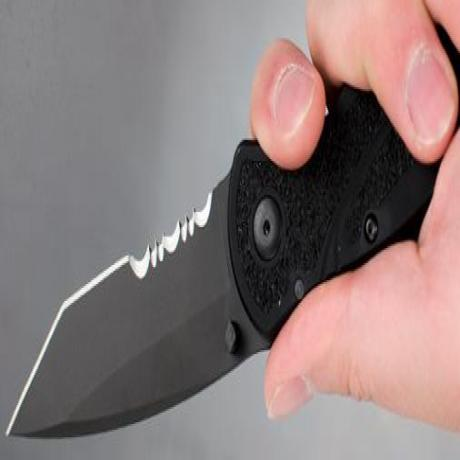1: (248, 0, 460, 443)
weapon: (4, 152, 288, 451)
